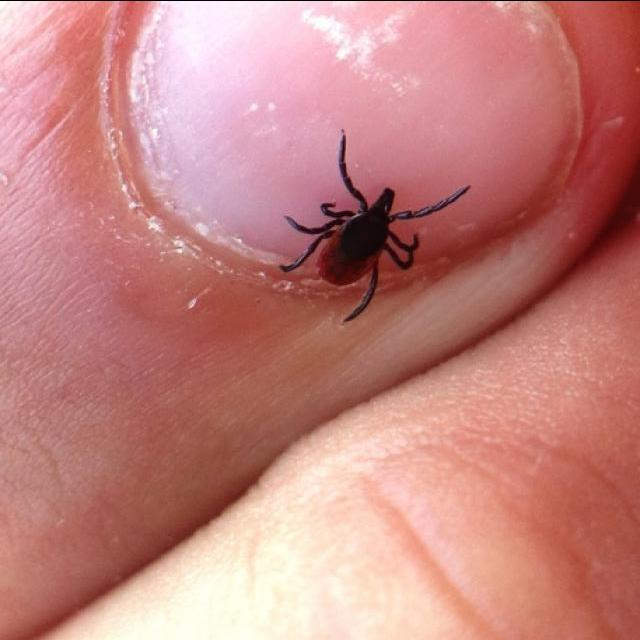Ixodes Ricinus-F: (274, 128, 472, 324)
